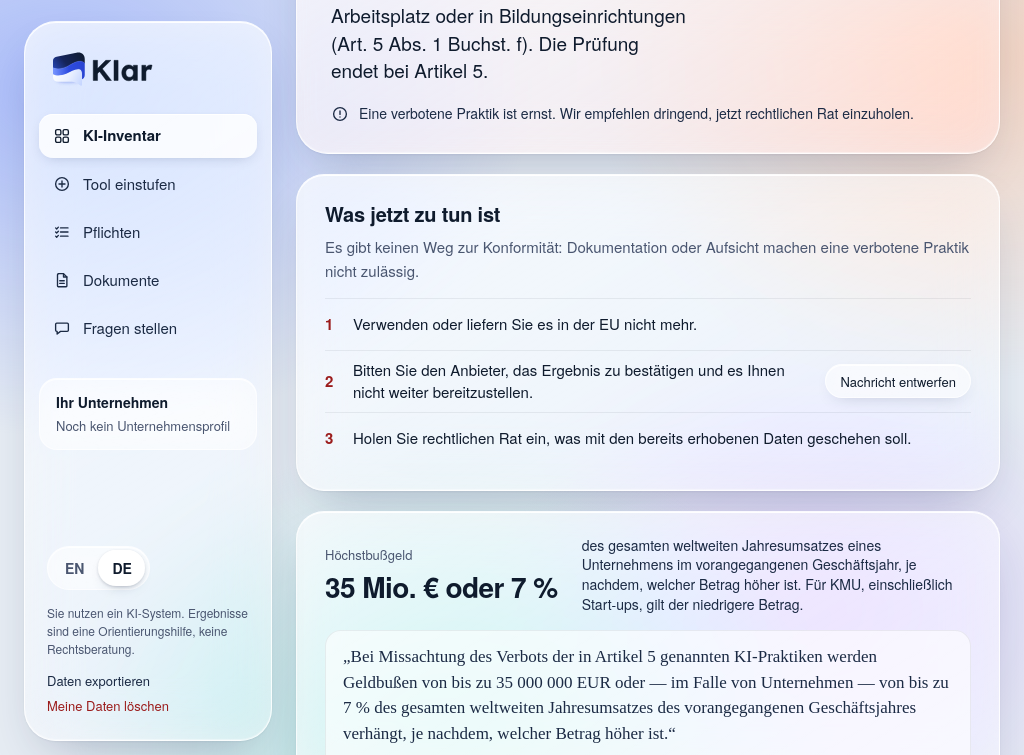
Test: A recorded prohibited result (de) › says when the browser refuses the clipboard
(page scrolled)
Click the button "Nachricht entwerfen": {"x": 898, "y": 381} [826, 364, 971, 398]
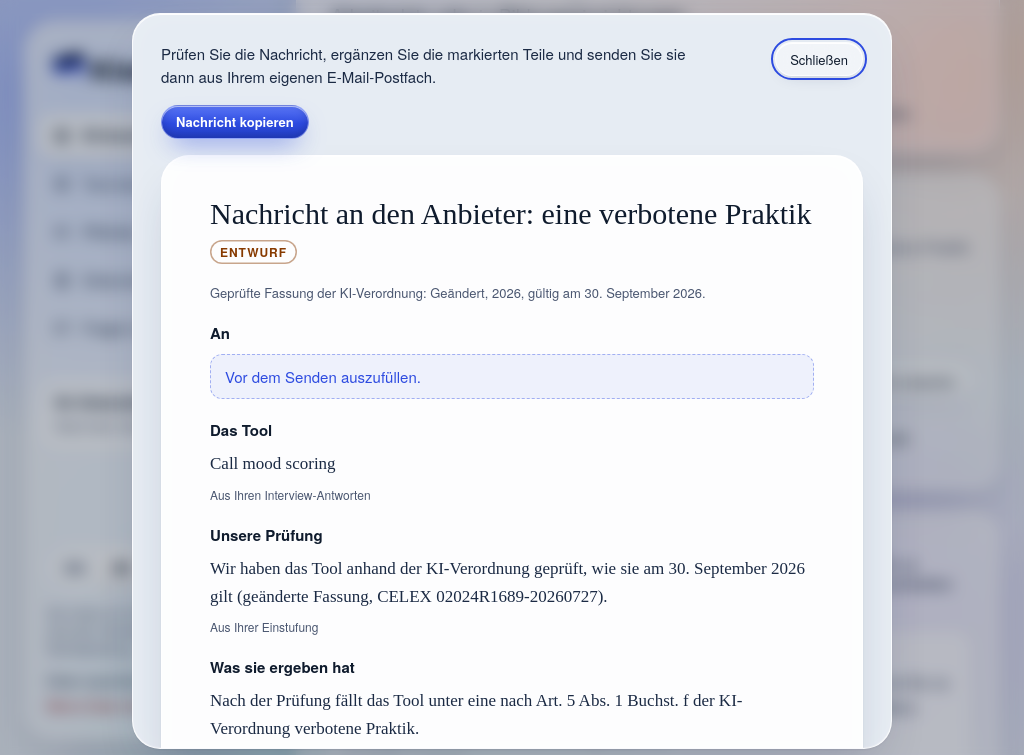
Click the button "Nachricht kopieren": {"x": 235, "y": 122} [161, 104, 309, 138]
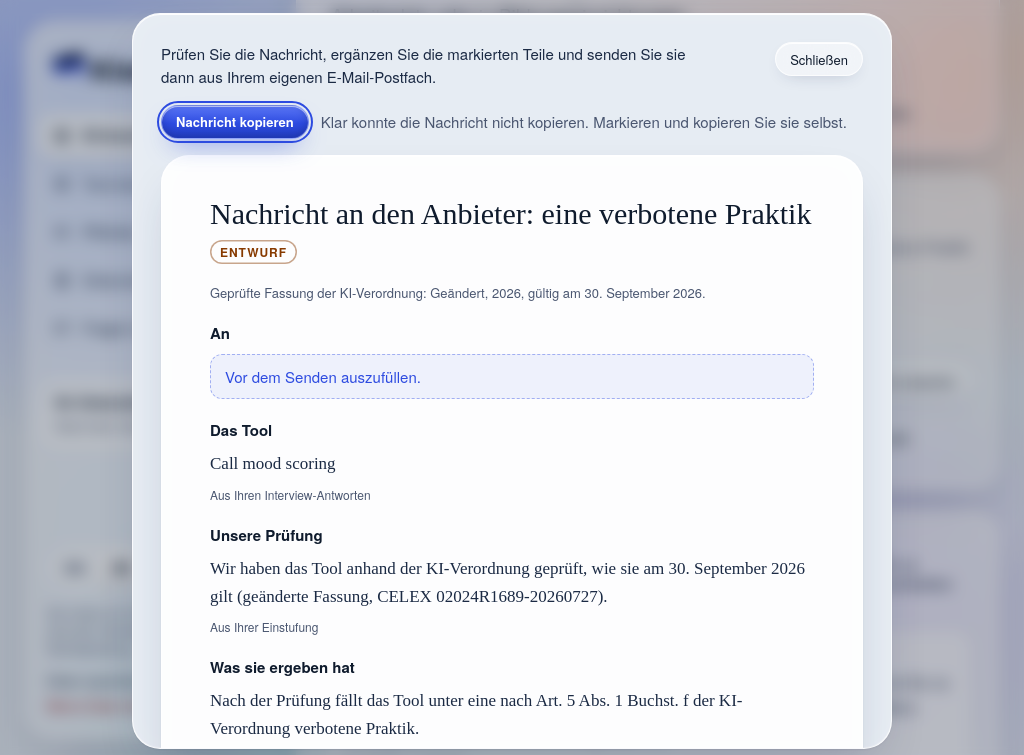
Result: the text "Klar konnte die Nachricht nicht kopieren. Markieren und kopieren Sie sie selbst." is shown at [321, 110, 847, 133]
